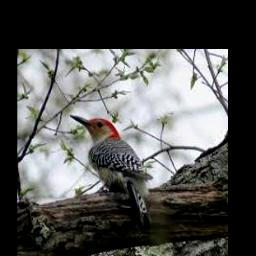Woodpecker: (69, 114, 152, 226)
